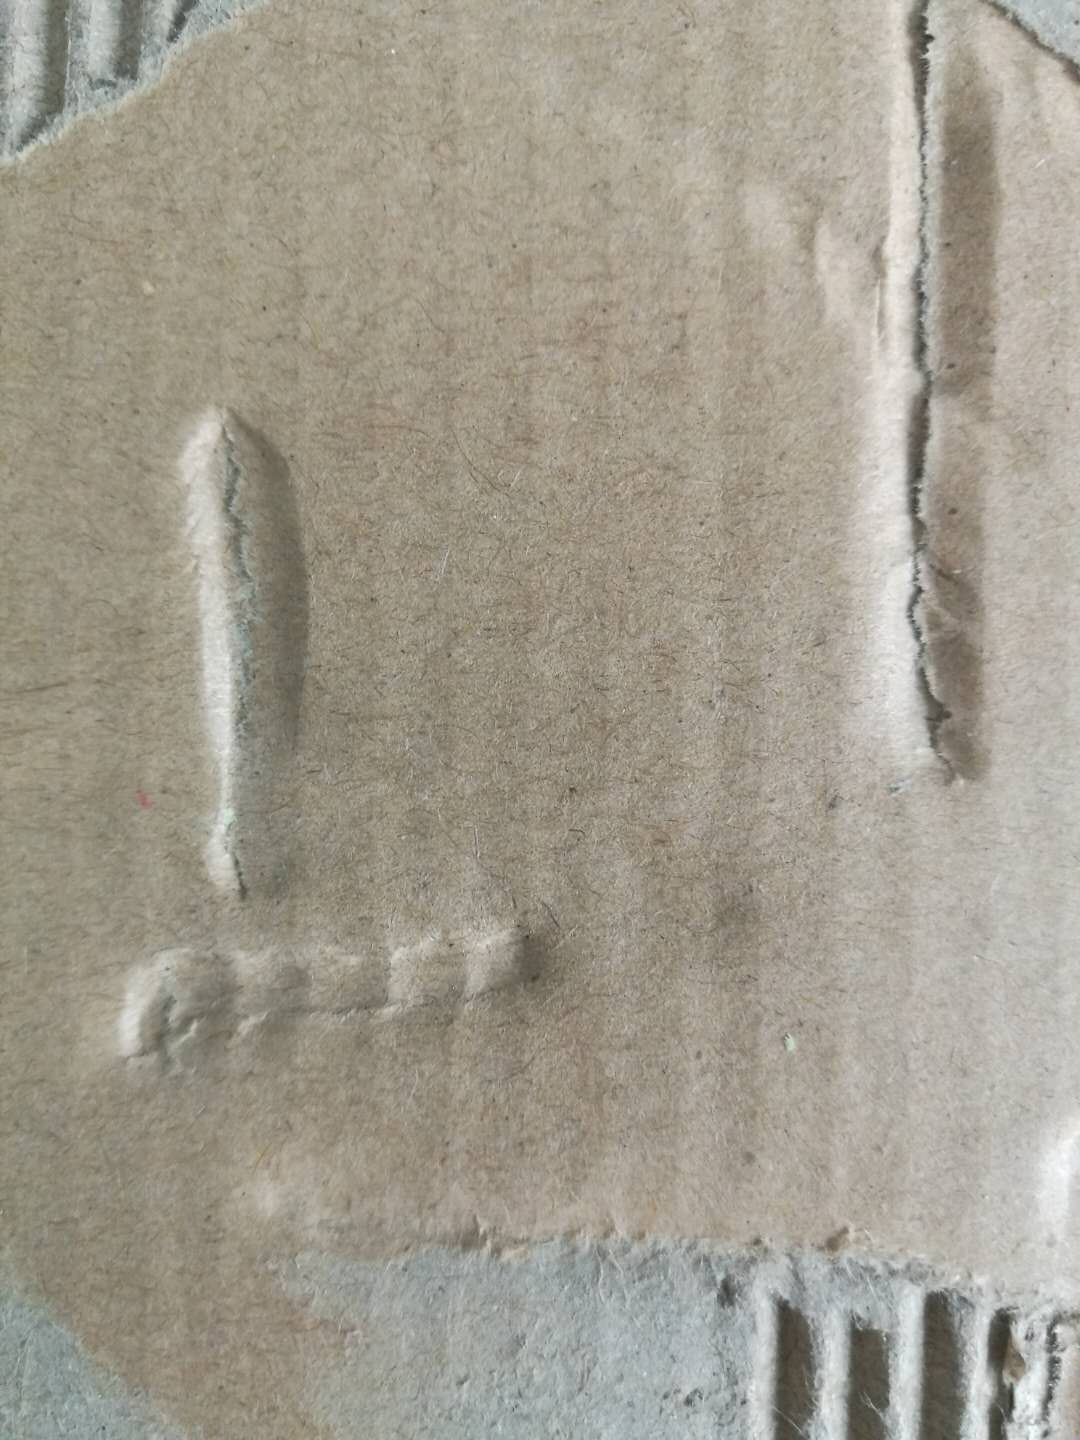defect: (759, 2, 1080, 798), (255, 1198, 1080, 1440), (134, 376, 357, 924), (102, 901, 608, 1087), (1, 1, 289, 178), (1, 1257, 228, 1440)
